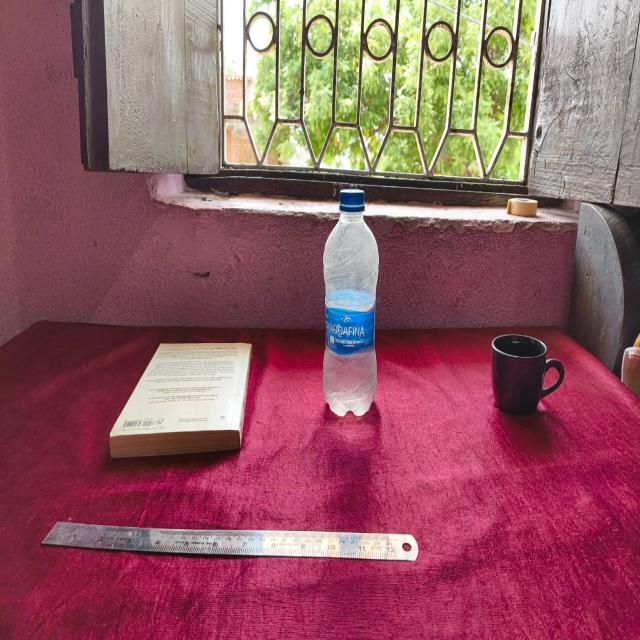Book: (106, 339, 259, 459)
Bottle: (321, 185, 379, 416)
Cup: (491, 332, 567, 420)
scale: (46, 509, 421, 565)
